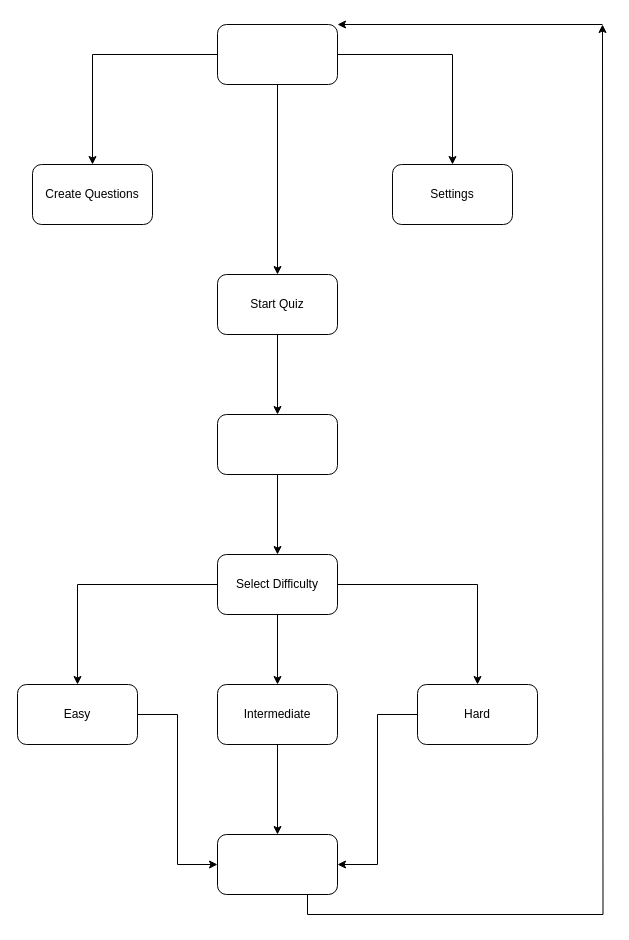
This 629x940 diagram has some shape labels left out. Here are the shapes that lost their labels. From the top down, the centre of each, then its label:
At pixel 277 54: "MAIN INDEX".
At pixel 277 444: "Select Categories".
At pixel 277 864: "Result".
